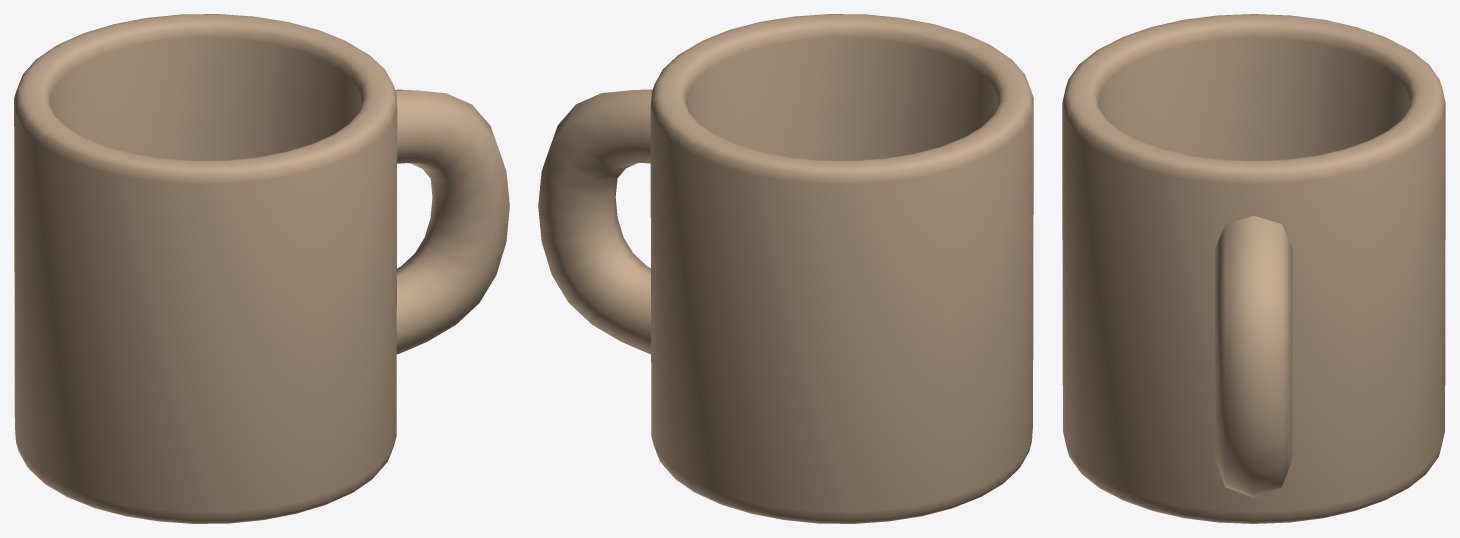
The model's file is SM_coffee_mug_clay.glb.
3 views of the same model, side by side, from view 1: azimuth 30°, elevation 25°; view 2: azimuth 150°, elevation 25°; view 3: azimuth 270°, elevation 25° (orthographic).
Parts seen in each view (by area): view 1: SM_coffee_mug_clay; view 2: SM_coffee_mug_clay; view 3: SM_coffee_mug_clay.
Boxes of the visible parts, x1,y1,x2,y2 form: SM_coffee_mug_clay: [14, 14, 509, 523]; SM_coffee_mug_clay: [538, 14, 1033, 523]; SM_coffee_mug_clay: [1062, 14, 1445, 523].
Bounding box in the file's own units: 0.2716 × 0.2002 × 0.194.
1 material, 1 textured.
